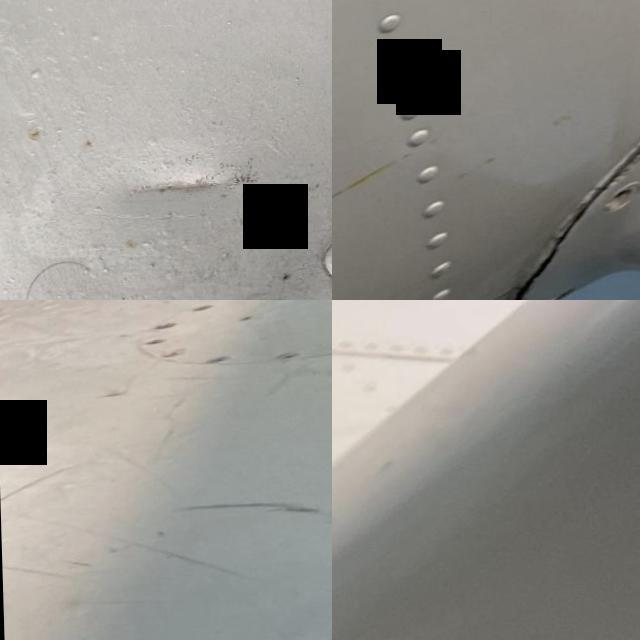Crack: (473, 189, 596, 300), (588, 0, 640, 163)
Dent: (109, 102, 283, 250)
Missing_Fastener: (600, 179, 640, 221)
